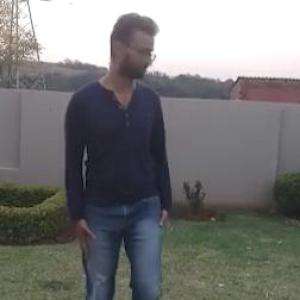follow: (57, 5, 181, 299)
